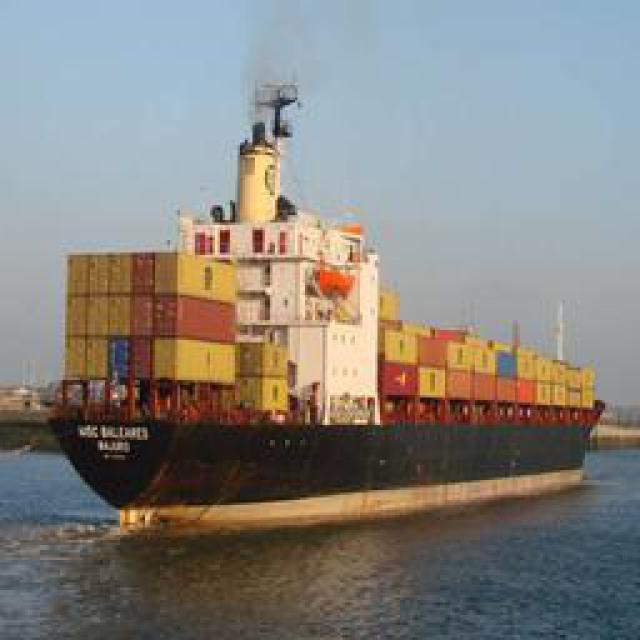Ship: (35, 72, 603, 535)
